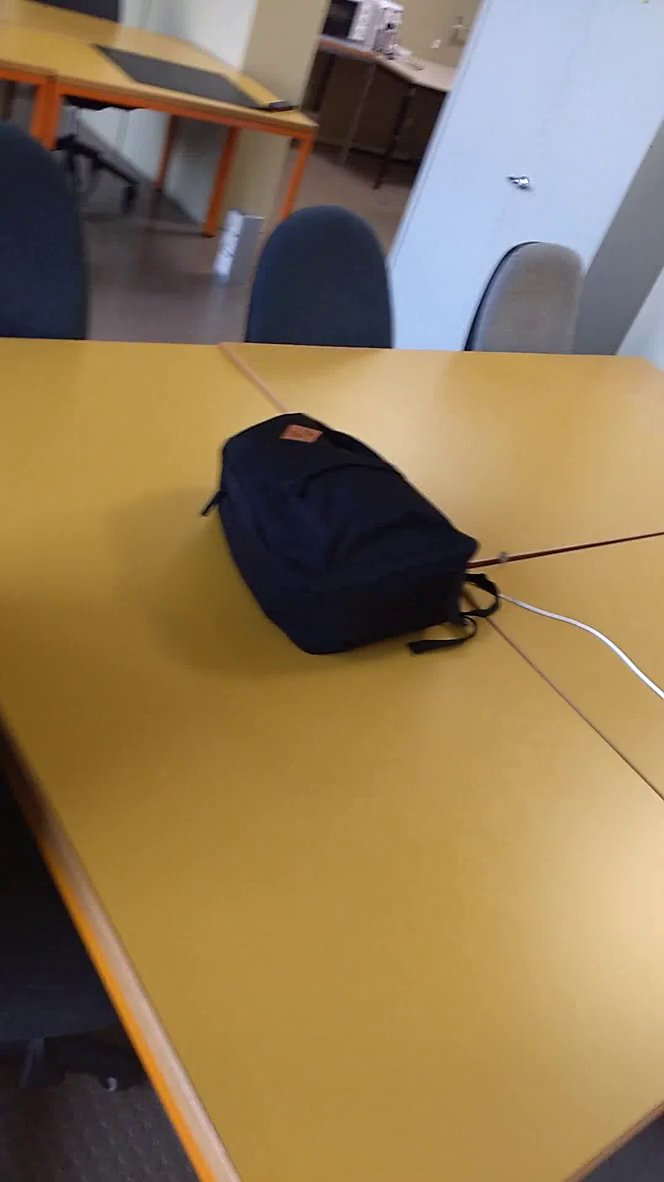bag: (198, 396, 509, 679)
chair: (230, 190, 418, 364), (458, 231, 604, 367)
